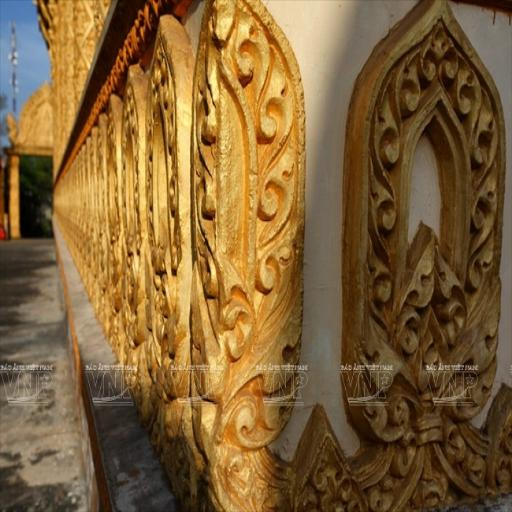la: (342, 0, 499, 440), (188, 3, 310, 447), (148, 9, 188, 434), (122, 60, 144, 390), (288, 424, 361, 512), (110, 78, 125, 373), (95, 105, 110, 355)
